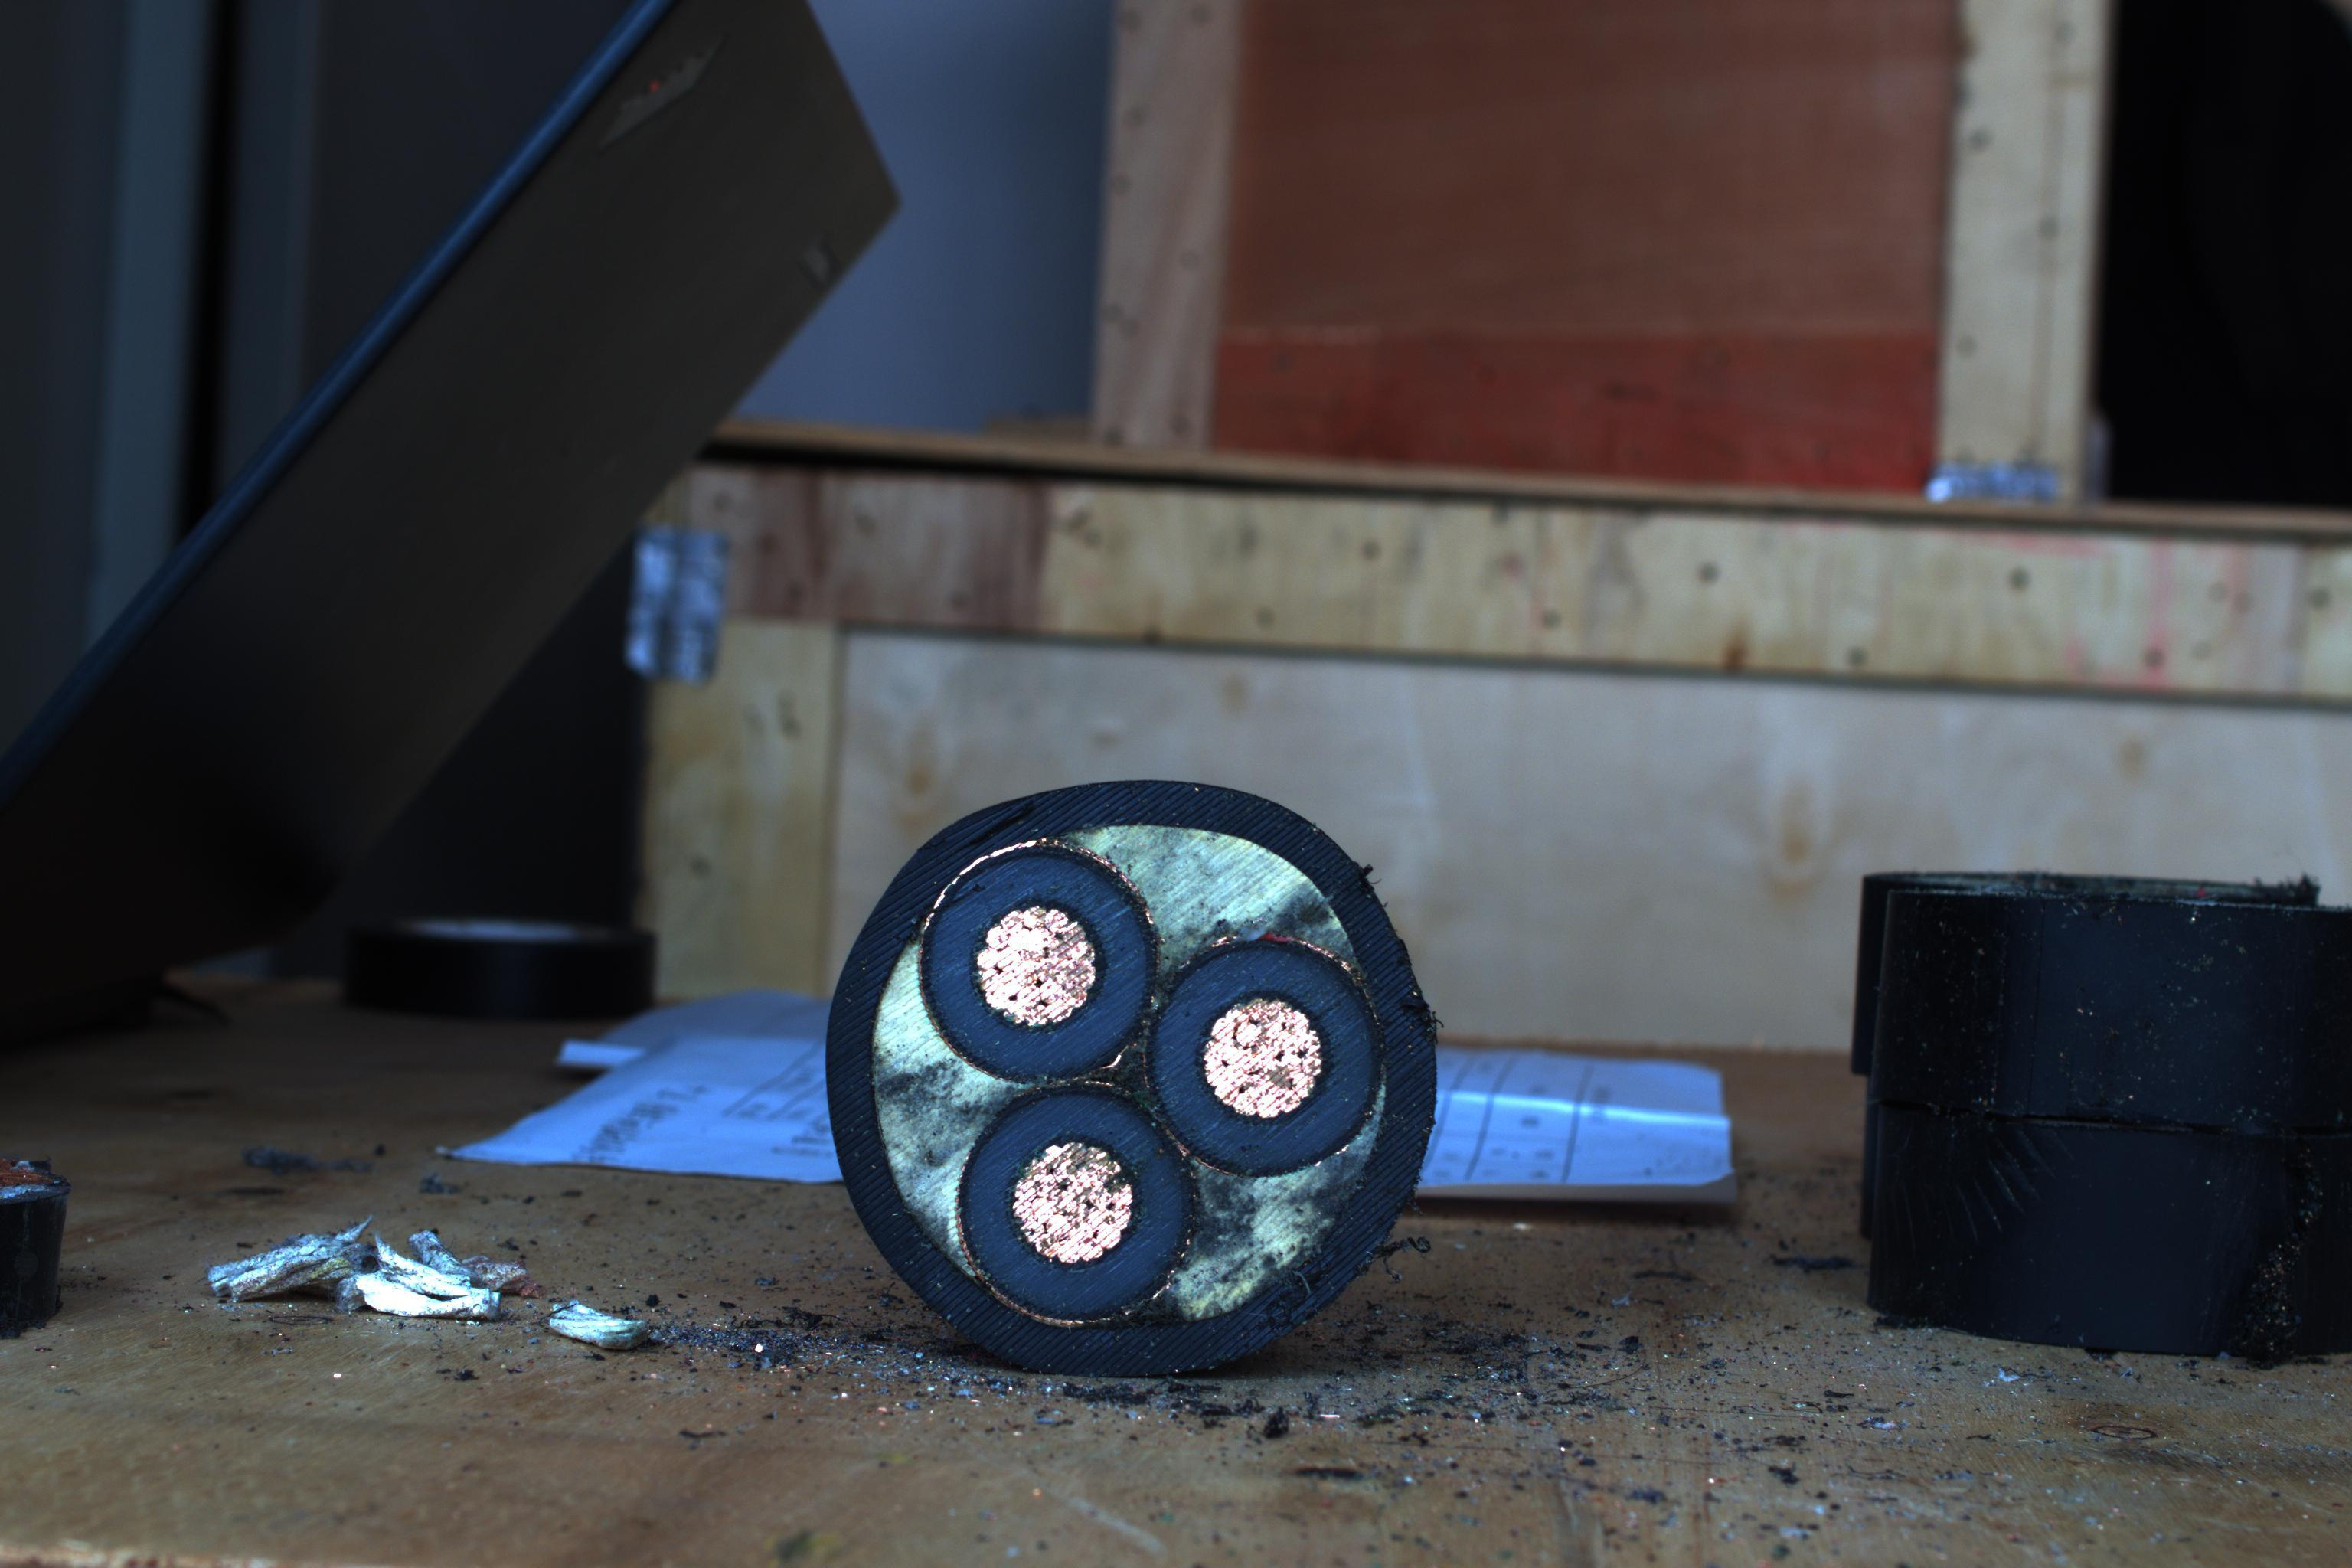ZA_YJV_8.7_10kV_3x120: (800, 763, 1430, 1367)
